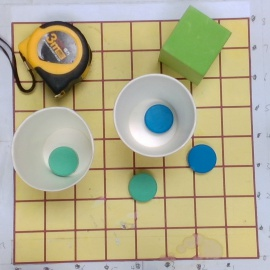blue: (111, 73, 199, 159), (127, 173, 159, 202), (187, 144, 217, 174)
cup_green: (13, 106, 96, 194)
